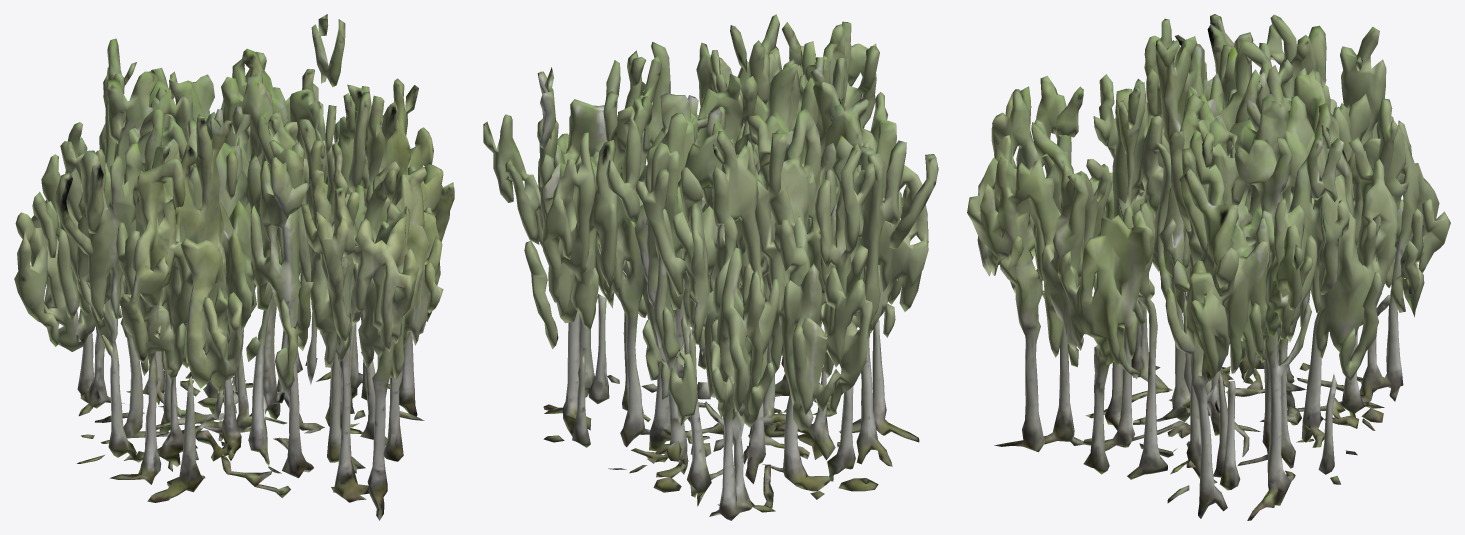
Rendered from AI_QuakingAspen02.fbx.
3 renders of one model, left to right at view 1: azimuth 30°, elevation 25°; view 2: azimuth 150°, elevation 25°; view 3: azimuth 270°, elevation 25°, orthographic. The views are drawn at different scales.
Visible parts, largest first — view 1: Mesh1.0; view 2: Mesh1.0; view 3: Mesh1.0.
Boxes of the visible parts, x1,y1,x2,y2 form: Mesh1.0: (14, 14, 454, 520); Mesh1.0: (483, 14, 938, 520); Mesh1.0: (967, 14, 1450, 520).
Bounding box in the file's own units: 194 × 175 × 198.
Materials: 1 (1 with a texture image).
